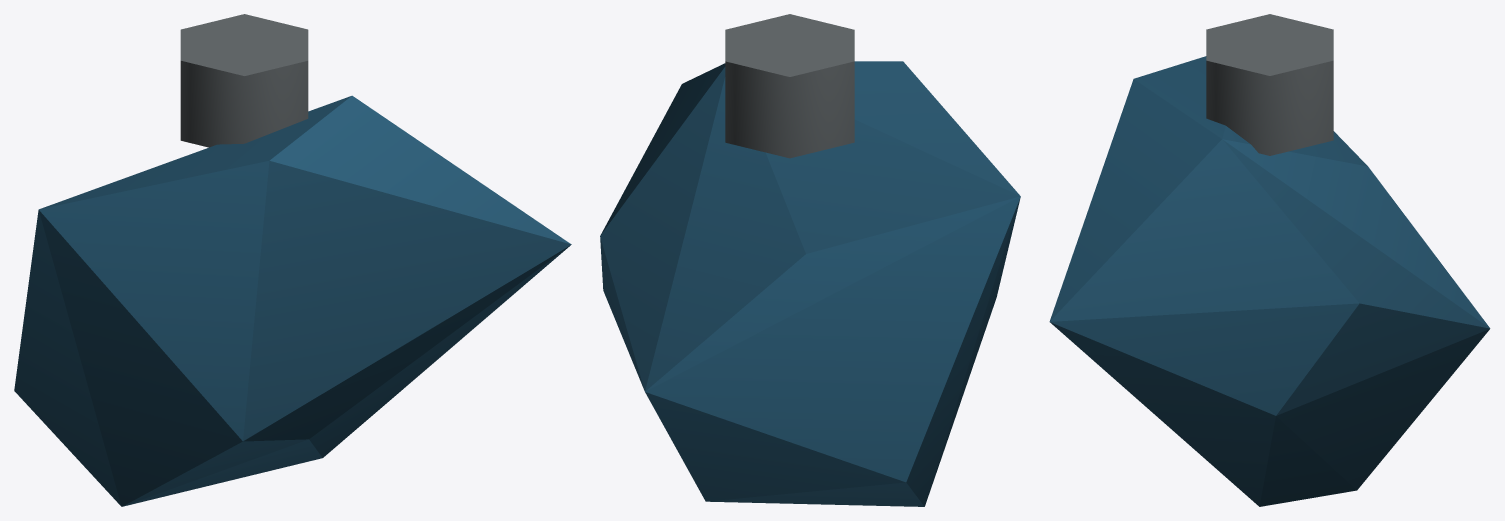
The model's file is poison-capsule.glb.
3 views of the same model, side by side, from view 1: azimuth 30°, elevation 25°; view 2: azimuth 150°, elevation 25°; view 3: azimuth 270°, elevation 25° (orthographic).
Parts seen in each view (by area): view 1: poison-capsule; view 2: poison-capsule; view 3: poison-capsule.
Boxes of the visible parts, x1,y1,x2,y2 form: poison-capsule: (14, 14, 571, 506); poison-capsule: (600, 14, 1020, 506); poison-capsule: (1049, 14, 1490, 506).
Size of the model in its own units: 0.17 by 0.16 by 0.15.
